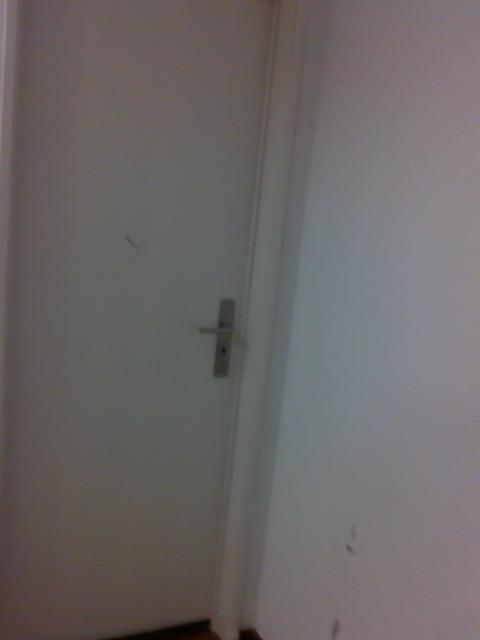door: (1, 1, 270, 639)
